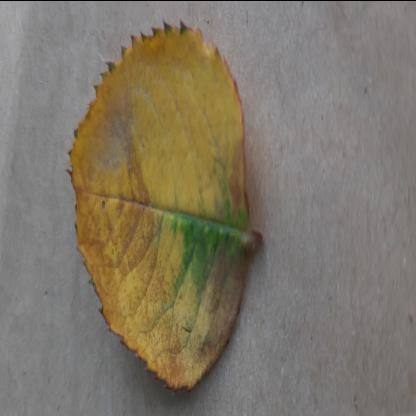black-spot: (66, 13, 254, 404)
